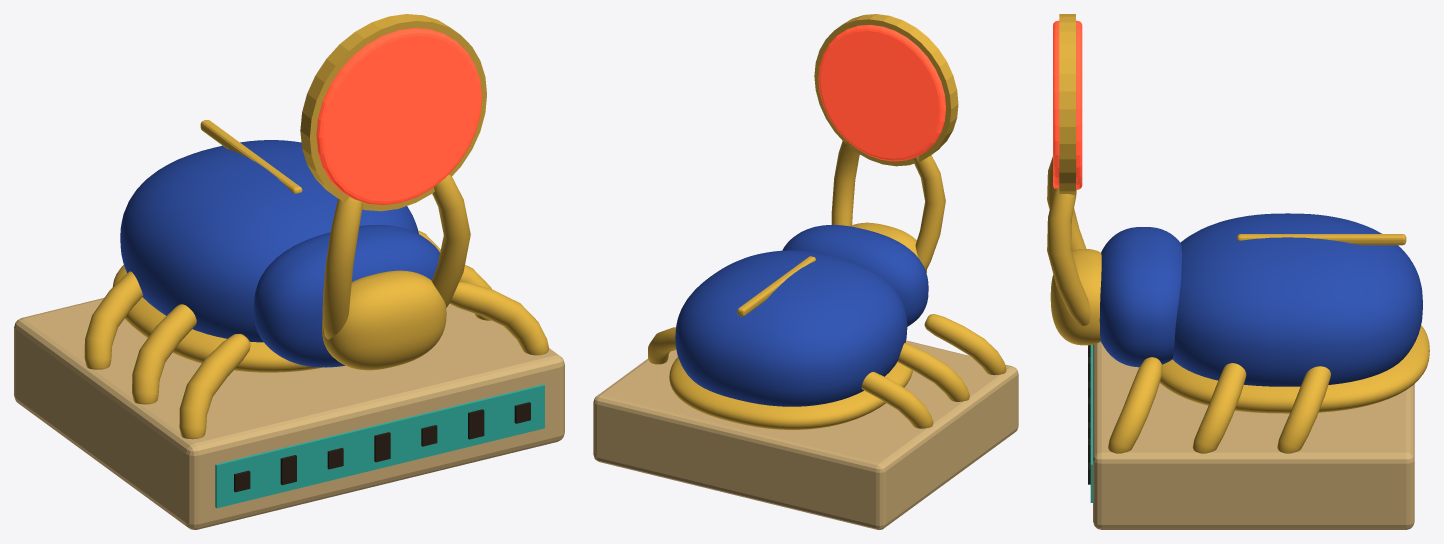
Rendered from escarabajo.glb.
3 views of the same model, side by side, from view 1: azimuth 30°, elevation 25°; view 2: azimuth 150°, elevation 25°; view 3: azimuth 270°, elevation 25° (orthographic). The views are drawn at different scales.
Parts seen in each view (by area): view 1: zocalo, elitros, sol, franja, torax, cabeza, aro_sol, brazo-1, borde, pata-10, brazo1, pata10 (+3 smaller); view 2: zocalo, elitros, sol, borde, torax, aro_sol, brazo-1, pata-10, pata-11, pata-12, brazo1, pata12 (+2 smaller); view 3: zocalo, elitros, torax, borde, brazo1, aro_sol, cabeza, pata10, pata11, pata12, sol, sutura (+2 smaller).
Part boxes in pixels (x1=…): zocalo: x1=14, y1=298, x2=564, y2=529; elitros: x1=120, y1=140, x2=418, y2=342; sol: x1=316, y1=28, x2=481, y2=204; franja: x1=215, y1=384, x2=544, y2=508; torax: x1=253, y1=225, x2=439, y2=367; cabeza: x1=322, y1=270, x2=446, y2=370; aro_sol: x1=300, y1=14, x2=486, y2=211; brazo-1: x1=322, y1=197, x2=362, y2=339; borde: x1=112, y1=265, x2=323, y2=372; pata-10: x1=179, y1=334, x2=250, y2=439; brazo1: x1=431, y1=174, x2=470, y2=307; pata10: x1=449, y1=281, x2=549, y2=355; zocalo: x1=593, y1=340, x2=1018, y2=529; elitros: x1=675, y1=250, x2=907, y2=406; sol: x1=818, y1=24, x2=945, y2=161; borde: x1=669, y1=357, x2=912, y2=429; torax: x1=782, y1=225, x2=928, y2=326; aro_sol: x1=814, y1=14, x2=958, y2=166; brazo-1: x1=913, y1=155, x2=945, y2=271; pata-10: x1=924, y1=314, x2=1006, y2=375; pata-11: x1=897, y1=343, x2=969, y2=401; pata-12: x1=861, y1=372, x2=933, y2=428; brazo1: x1=831, y1=141, x2=859, y2=226; pata12: x1=648, y1=327, x2=676, y2=364; zocalo: x1=1093, y1=342, x2=1414, y2=529; elitros: x1=1172, y1=213, x2=1422, y2=386; torax: x1=1099, y1=227, x2=1181, y2=367; borde: x1=1160, y1=325, x2=1429, y2=413; brazo1: x1=1047, y1=188, x2=1090, y2=325; aro_sol: x1=1059, y1=14, x2=1075, y2=195; cabeza: x1=1050, y1=249, x2=1101, y2=345; pata10: x1=1108, y1=357, x2=1162, y2=453; pata11: x1=1192, y1=363, x2=1246, y2=453; pata12: x1=1277, y1=366, x2=1330, y2=453; sol: x1=1053, y1=20, x2=1082, y2=189; sutura: x1=1237, y1=234, x2=1406, y2=245.
Bounding box in the file's own units: 0.46 × 0.558 × 0.4523.
